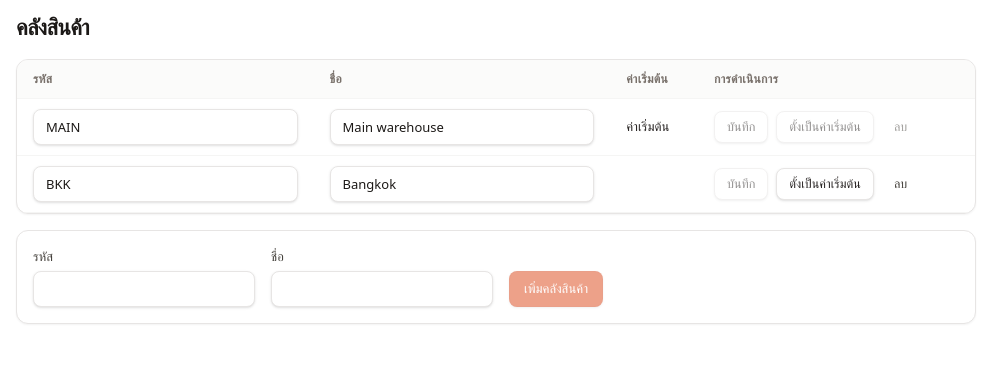
Test: WarehousesPage › shows the in-use conflict
Click the 2nd button "ลบ" at point(901, 184), box left=882, top=168, right=919, bottom=200
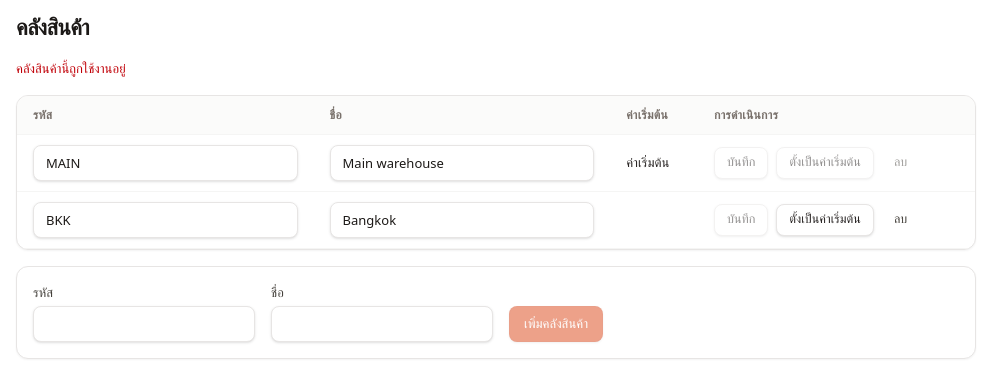
Expected: the message reads "คลังสินค้านี้ถูกใช้งานอยู่", left=16, top=59, right=126, bottom=77
